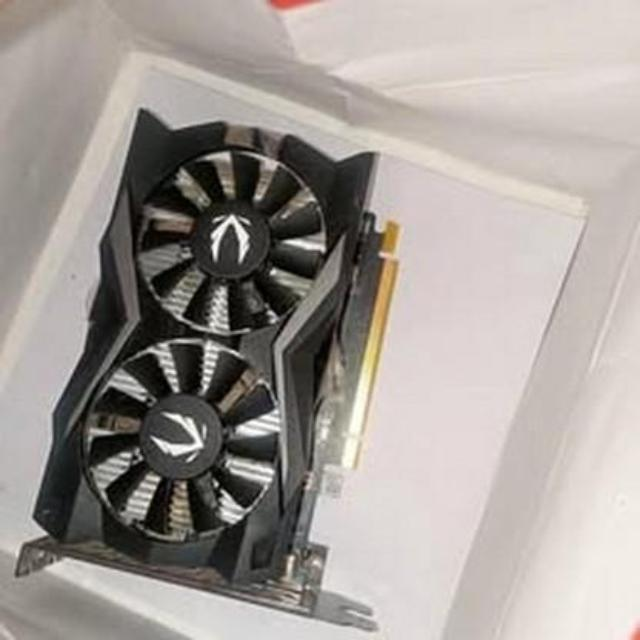GPU: (10, 107, 405, 621)
